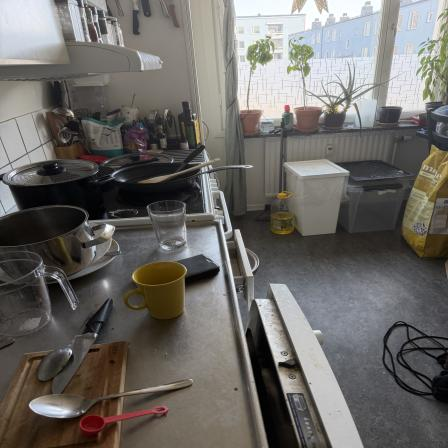phone: (153, 256, 225, 286)
yellow_cup: (124, 262, 190, 322)
